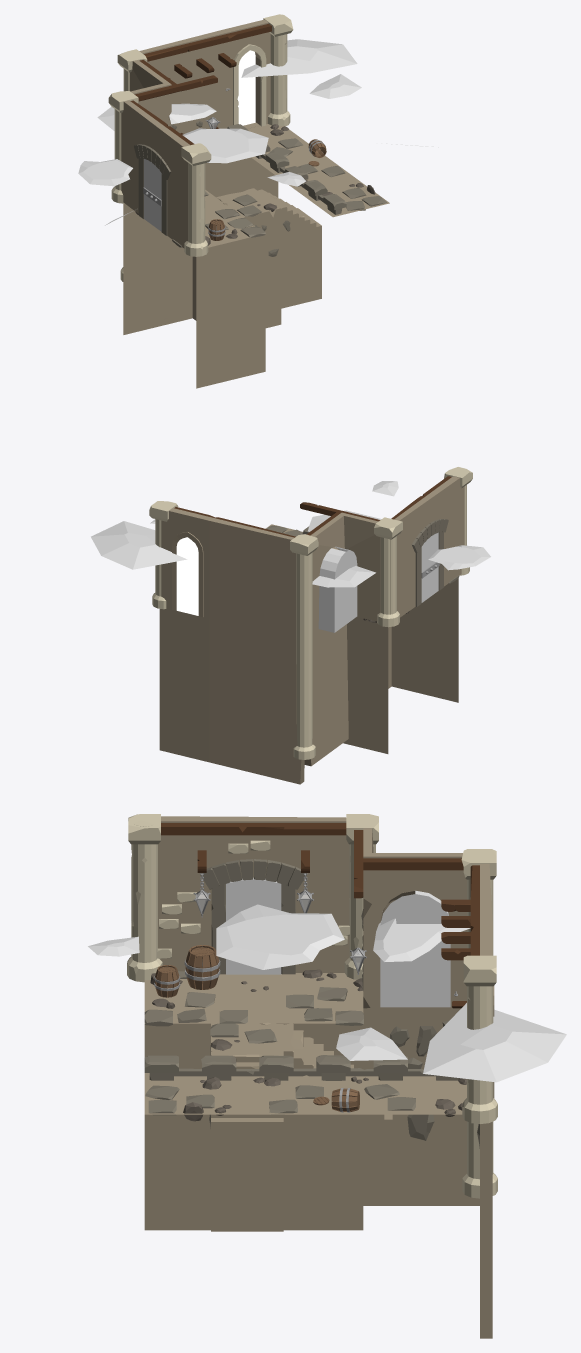
The model's file is newdungeon.glb.
3 renders of one model, top to bottom at view 1: azimuth 30°, elevation 25°; view 2: azimuth 150°, elevation 25°; view 3: azimuth 270°, elevation 25°, orthographic. The views are drawn at different scales.
Parts seen in each view (by area): view 1: Stair, Wall, Chain string1, Pillar, Wood2, Tile, Door, Border, Door Bool, Circle.003, Wood, Rock; view 2: Wall, Stair, Pillar, Chain string1, Window Bool, Door, Wood2, Door Bool; view 3: Stair, Wall, Chain string1, Pillar, Tile, Wood2, Window Bool, Border, Door, Circle.003, Door Bool, Rock (+3 smaller).
Boxes of the visible parts, bbox=[...] form: Stair: bbox=[123, 124, 389, 388]; Wall: bbox=[121, 19, 278, 319]; Chain string1: bbox=[78, 39, 438, 225]; Pillar: bbox=[108, 14, 293, 281]; Wood2: bbox=[130, 23, 271, 145]; Tile: bbox=[172, 138, 386, 247]; Door: bbox=[134, 144, 170, 235]; Border: bbox=[227, 124, 346, 214]; Door Bool: bbox=[144, 159, 161, 231]; Circle.003: bbox=[208, 139, 326, 240]; Wood: bbox=[169, 53, 236, 78]; Rock: bbox=[135, 124, 375, 245]; Wall: bbox=[159, 476, 464, 784]; Stair: bbox=[265, 524, 458, 753]; Pillar: bbox=[149, 467, 472, 759]; Chain string1: bbox=[91, 481, 490, 587]; Window Bool: bbox=[318, 546, 357, 632]; Door: bbox=[411, 519, 448, 606]; Wood2: bbox=[174, 476, 451, 537]; Door Bool: bbox=[421, 532, 438, 602]; Stair: bbox=[144, 973, 466, 1231]; Wall: bbox=[158, 816, 494, 1338]; Chain string1: bbox=[88, 904, 566, 1082]; Pillar: bbox=[127, 814, 497, 1198]; Tile: bbox=[144, 971, 415, 1115]; Wood2: bbox=[161, 823, 479, 955]; Window Bool: bbox=[380, 890, 450, 1007]; Border: bbox=[144, 1055, 459, 1080]; Door: bbox=[199, 859, 307, 974]; Circle.003: bbox=[154, 945, 359, 1112]; Door Bool: bbox=[226, 877, 281, 974]; Rock: bbox=[150, 969, 466, 1121].
Bounding box in the file's own units: 9.86 × 4.95 × 6.59.
